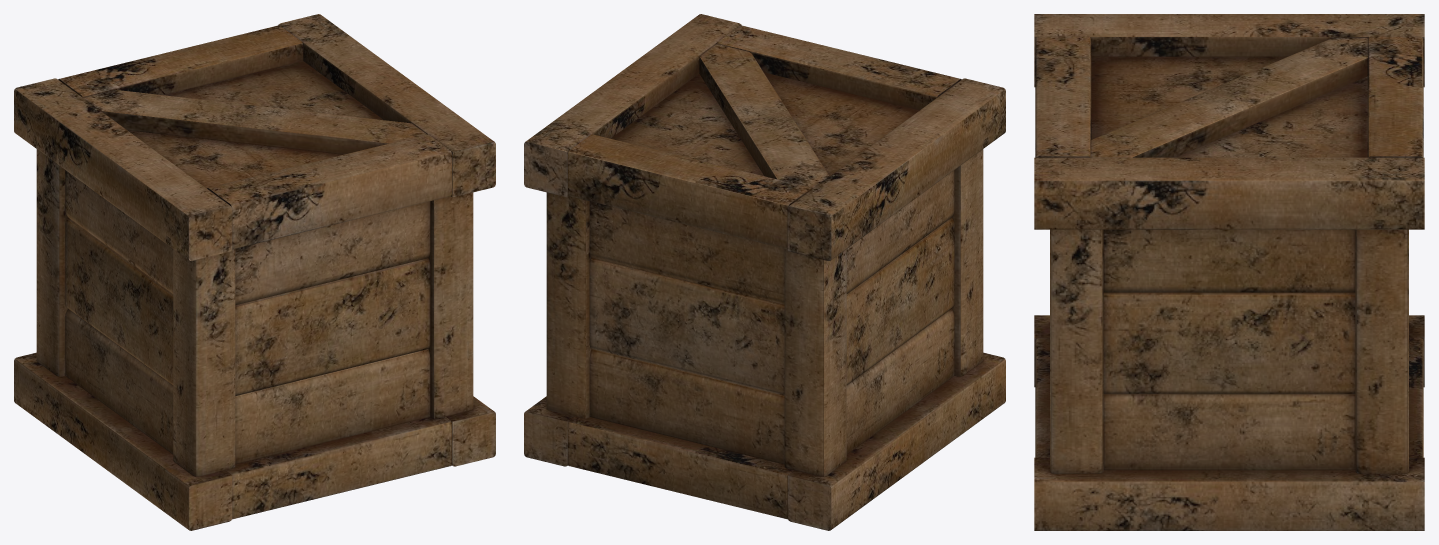
File: caja.glb
The picture shows the model from 3 angles, left to right: view 1: azimuth 30°, elevation 25°; view 2: azimuth 150°, elevation 25°; view 3: azimuth 270°, elevation 25°; orthographic projection. The views are drawn at different scales.
Parts seen in each view (by area): view 1: Centro; view 2: Centro; view 3: Centro.
Part boxes in pixels (x1,y1,x2,y2): Centro: (14, 14, 495, 530); Centro: (524, 14, 1005, 530); Centro: (1034, 14, 1424, 530).
Size of the model in its own units: 0.6568 by 0.6443 by 0.6471.
Materials: 1 (1 with a texture image).
